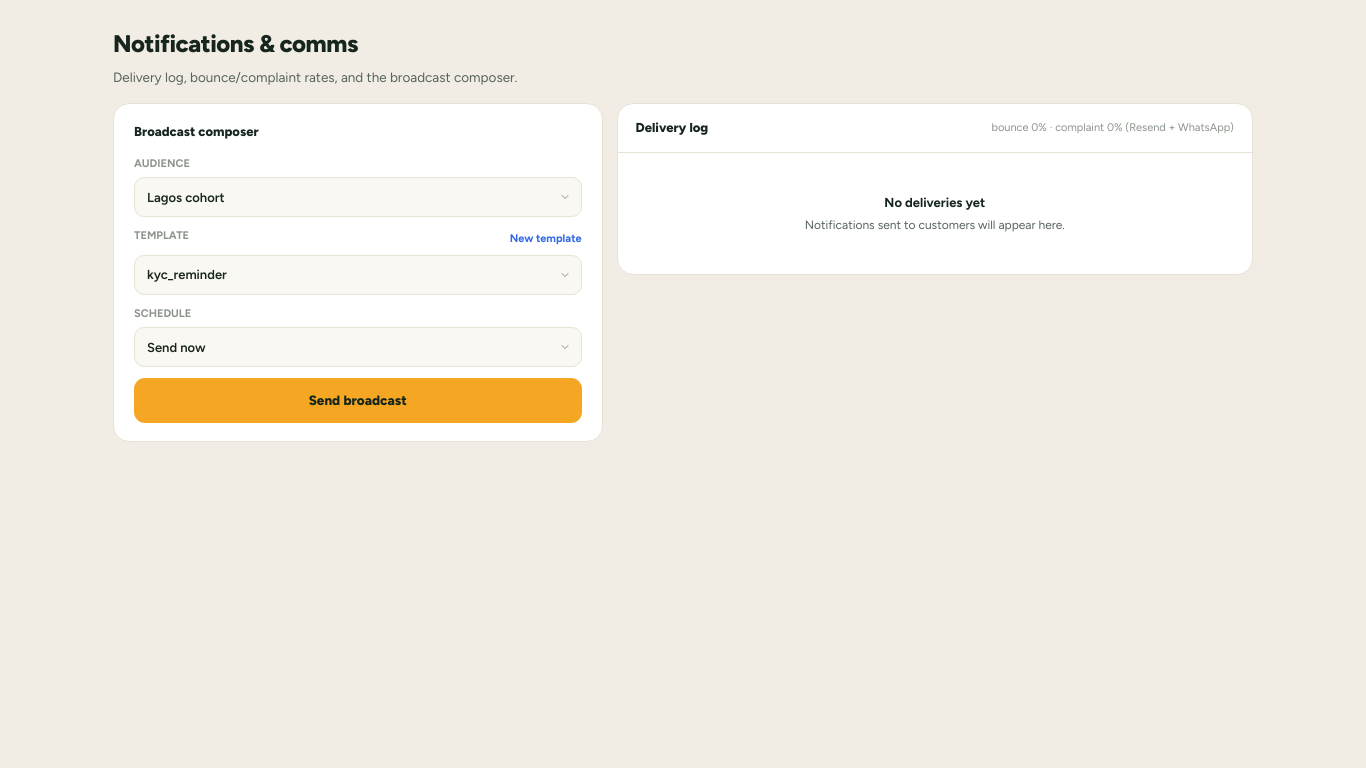
Test: NotificationsPage (broadcast composer — template authoring) › keeps the broadcast send proposal-only (a small audience never sends on click)
# Pressing the send CTA opens the confirm modal — it does not send inline.
Click the button "Send broadcast" at coordinates (358, 400), box [134,378,582,423]
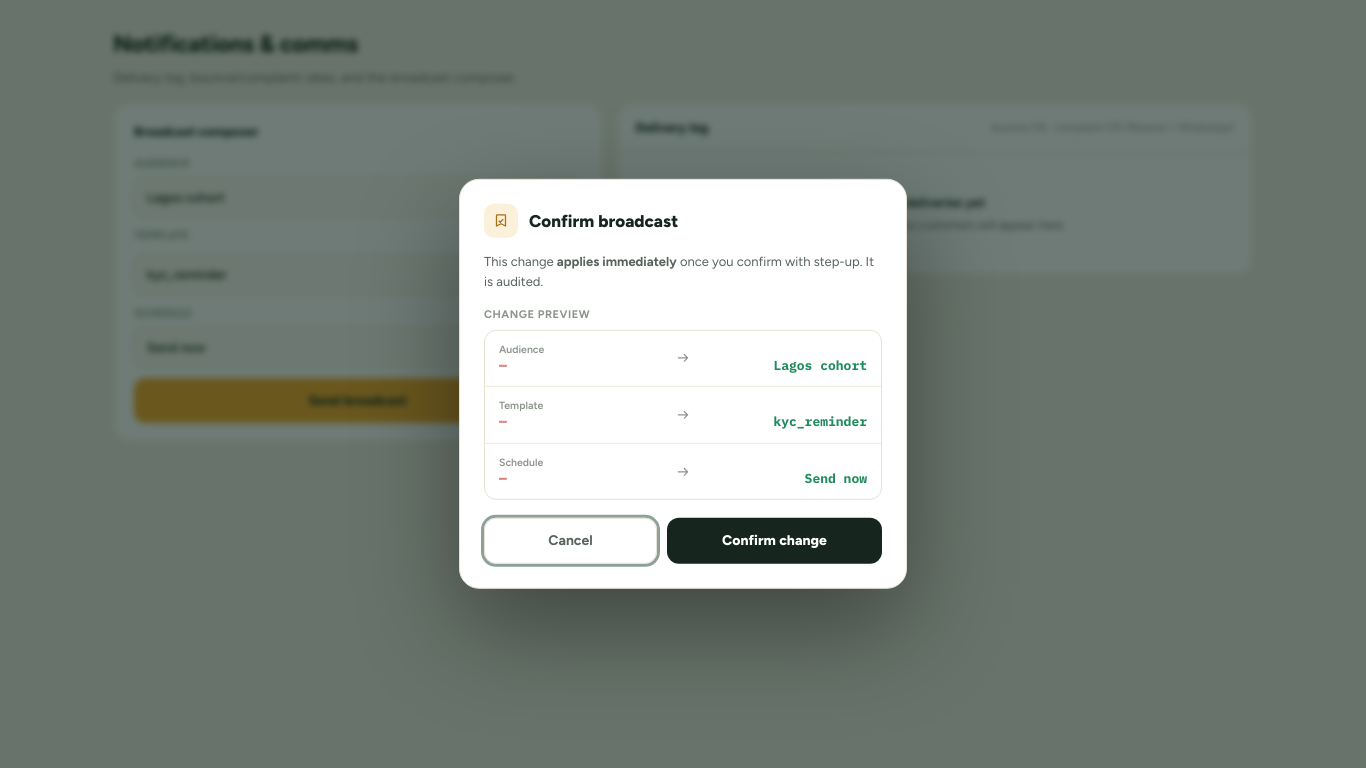
Now the heading "Confirm broadcast" is shown, box [529,212,678,229]
